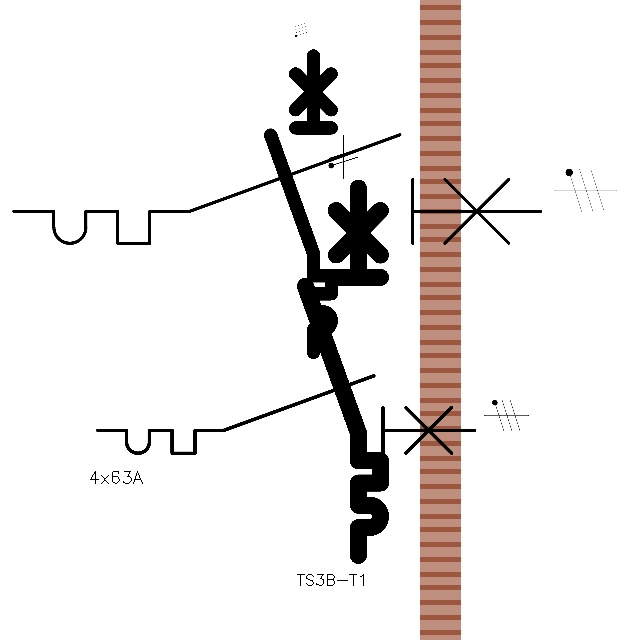interruptor_termomagnetico: (0, 121, 554, 257), (88, 366, 484, 463), (296, 178, 390, 564), (263, 48, 339, 360)
